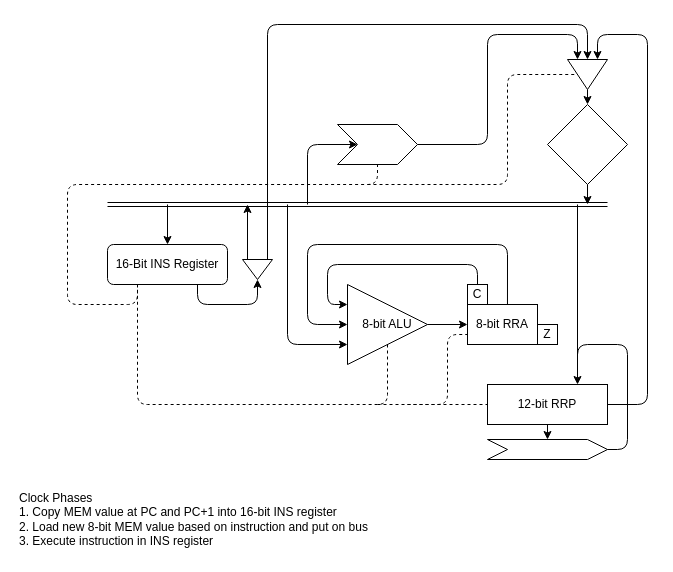
The diagram is 673 pixels wide and 572 high, and some of its shapes have lost their labels. Here are the shapes that lost their labels. From the top down, the centre of each, then its label:
(x=377, y=144): PC
(x=587, y=144): MEM
(x=547, y=449): HW Increment
